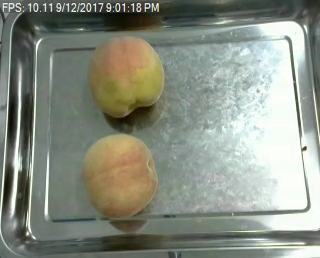Peach: (85, 133, 159, 220), (88, 35, 164, 117)
